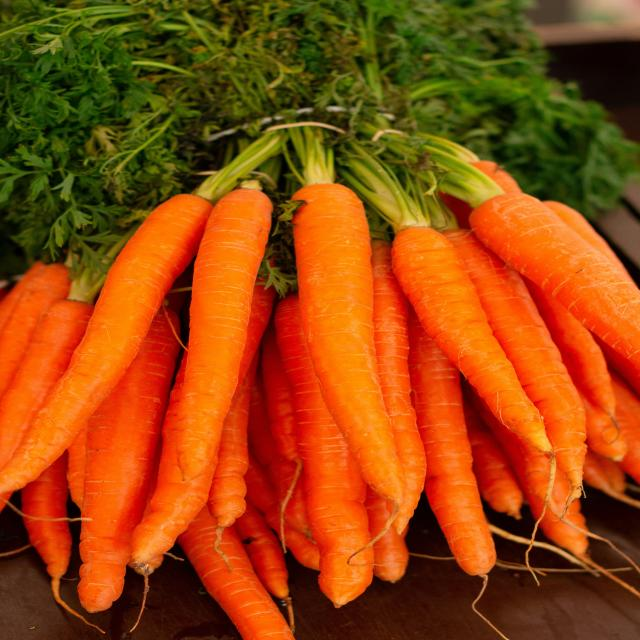carrot: (0, 194, 214, 492), (292, 184, 405, 508), (392, 226, 551, 452), (471, 194, 639, 382), (274, 295, 373, 608), (77, 312, 180, 612), (176, 189, 272, 480)
